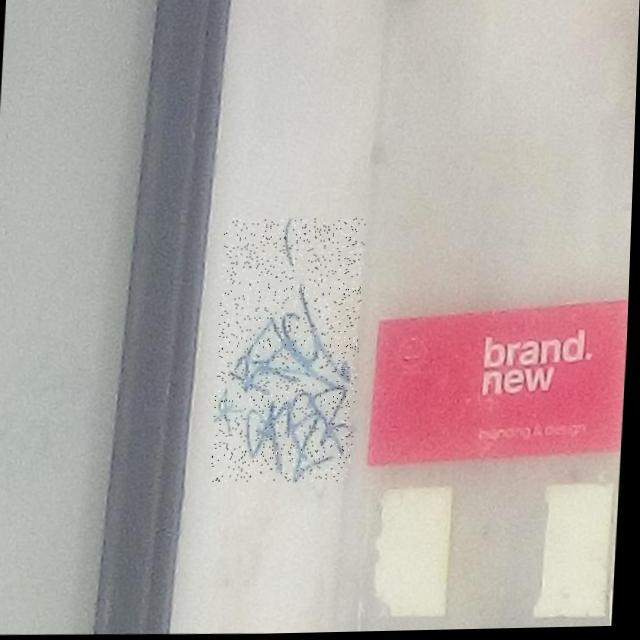-: (214, 216, 368, 484)
